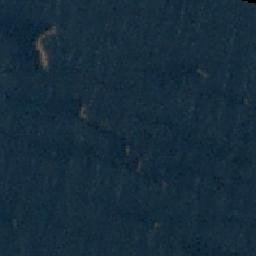debris: (38, 51, 51, 73), (34, 32, 47, 52), (75, 104, 89, 121), (151, 220, 163, 231), (43, 27, 56, 37), (198, 69, 207, 76)
